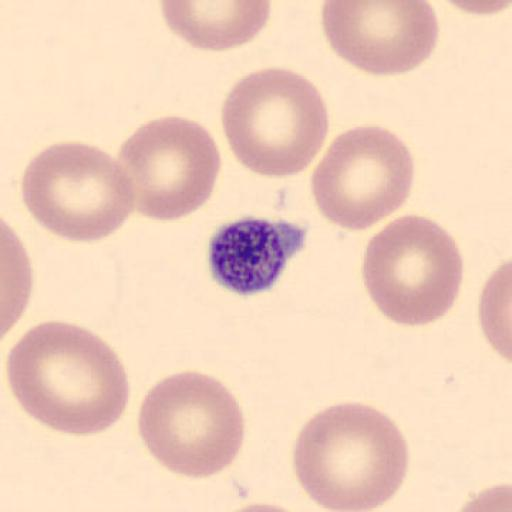Platelet: (205, 213, 310, 296)
RBC: (6, 320, 132, 436), (291, 399, 412, 512), (220, 66, 332, 178), (359, 212, 464, 330), (19, 140, 137, 244), (137, 369, 246, 480), (114, 114, 222, 224), (309, 123, 416, 232), (320, 1, 441, 77), (158, 0, 273, 52), (1, 217, 33, 342), (478, 256, 512, 366), (451, 481, 510, 512), (434, 0, 512, 18), (211, 502, 318, 512)
